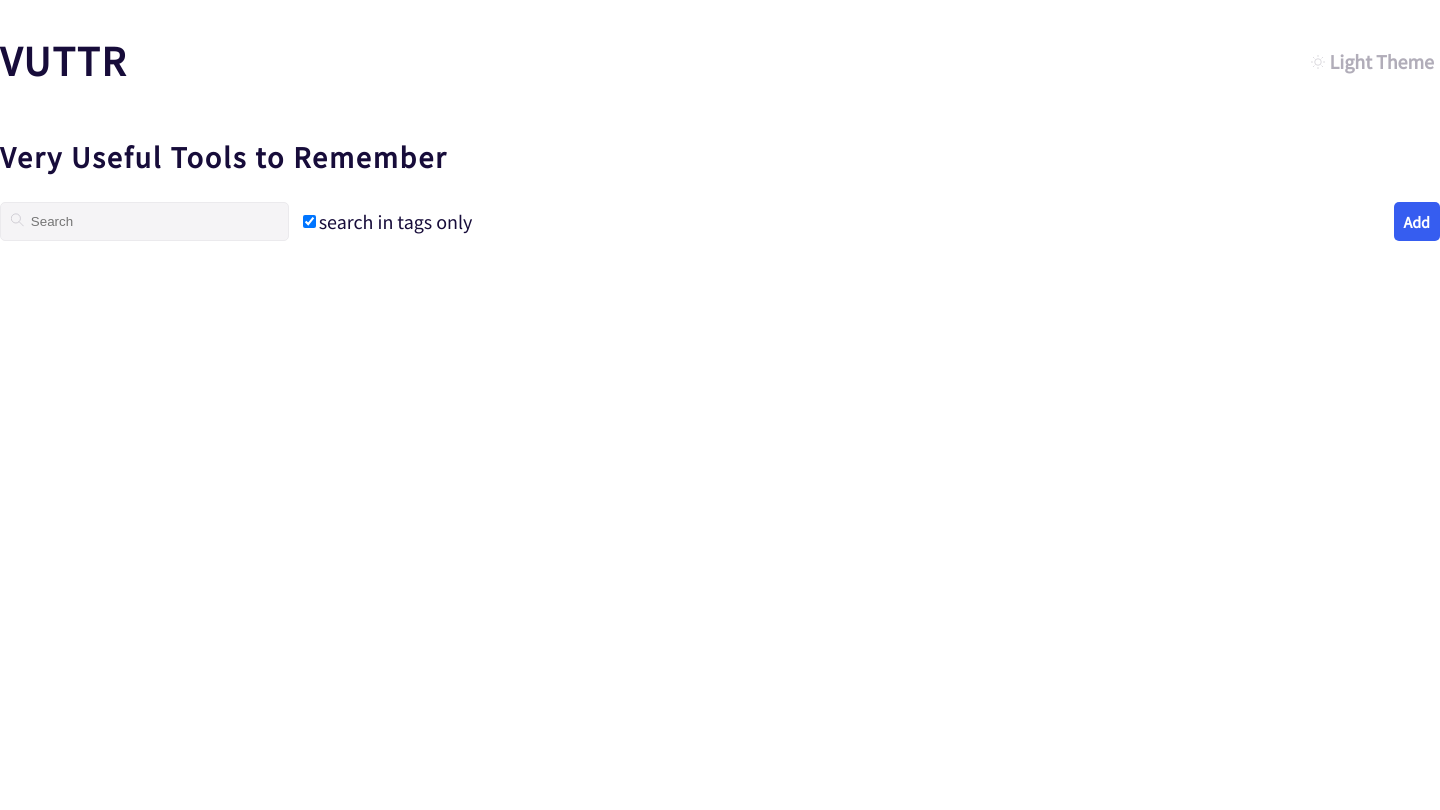
Test: <Header /> › show modal
The image size is (1440, 810).
Click the button "Add": (1417, 222) [1394,202,1439,241]
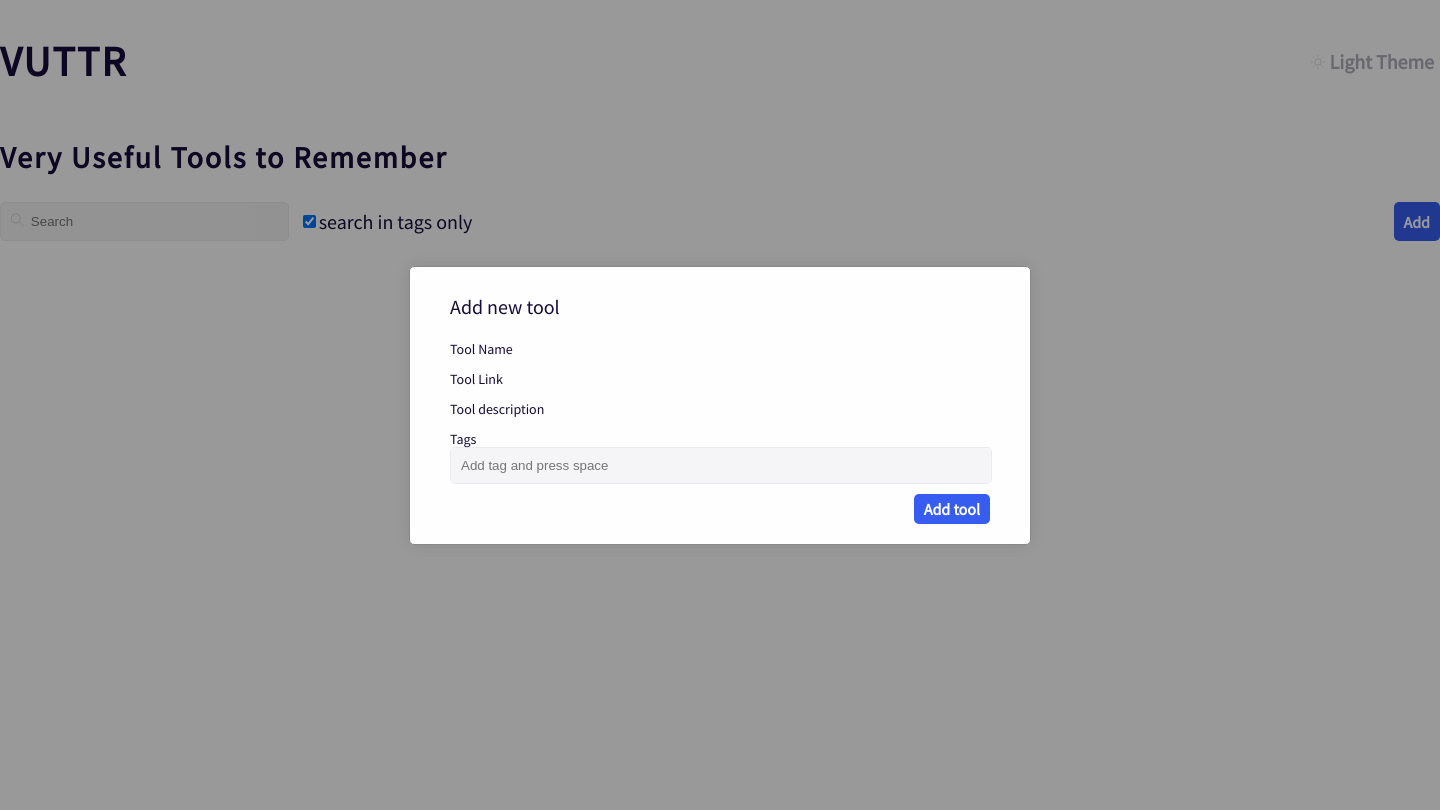
expect the text "Add new tool" is shown: met, box [450,294,560,318]
expect the text "Tool Name" is shown: met, box [450,340,513,358]
expect the text "Tool Link" is shown: met, box [450,370,503,388]
